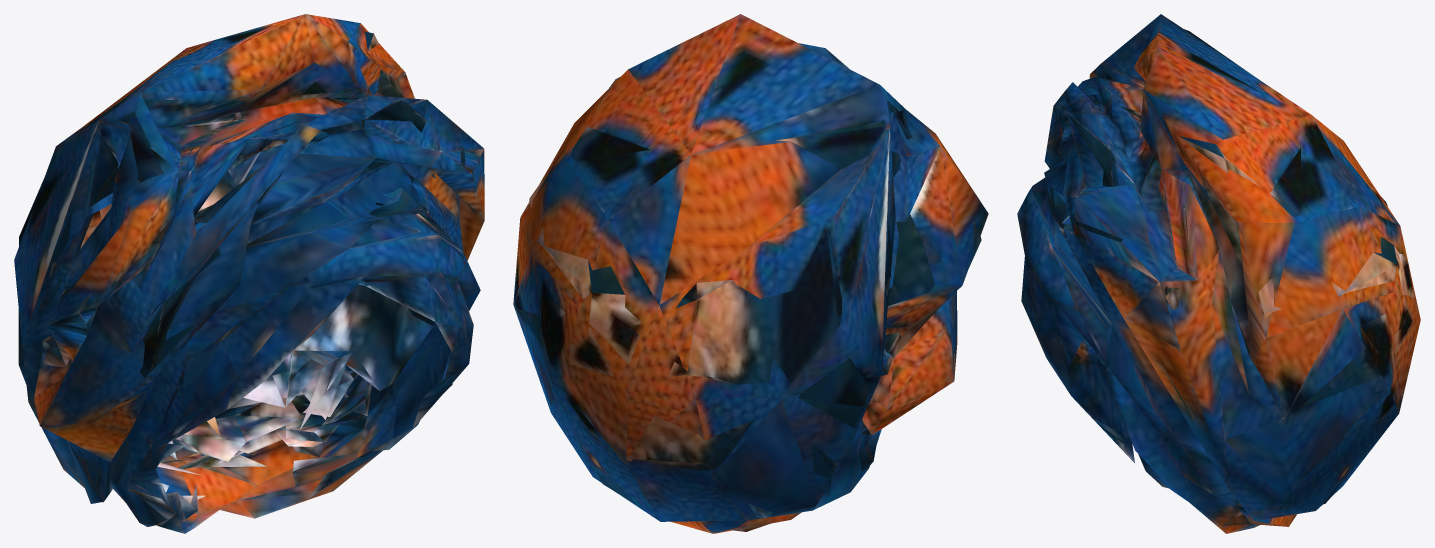
The model's file is hair-gele.glb.
3 views of the same model, side by side, from view 1: azimuth 30°, elevation 25°; view 2: azimuth 150°, elevation 25°; view 3: azimuth 270°, elevation 25° (orthographic). The views are drawn at different scales.
Visible parts, largest first — view 1: hair; view 2: hair; view 3: hair.
Boxes of the visible parts, x1,y1,x2,y2 form: hair: (14, 14, 484, 533); hair: (513, 14, 988, 533); hair: (1017, 14, 1420, 533).
Bounding box in the file's own units: 0.4144 × 0.4778 × 0.3658.
Materials: 1 (1 with a texture image).
